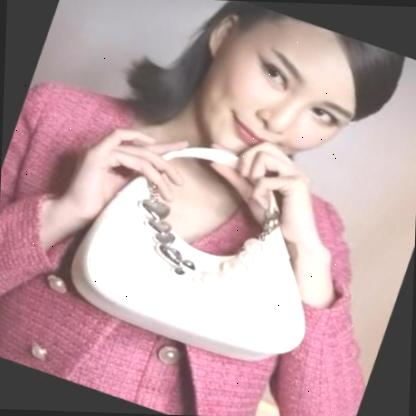bag: (61, 138, 318, 367)
person: (0, 0, 399, 416)
